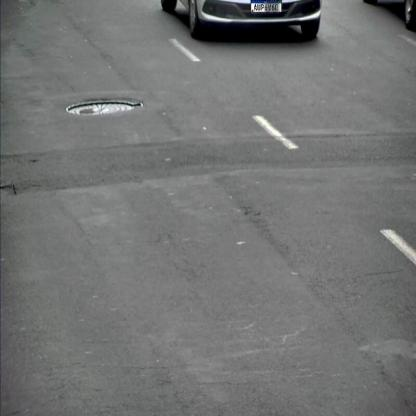PlacaM: (250, 0, 281, 12)
